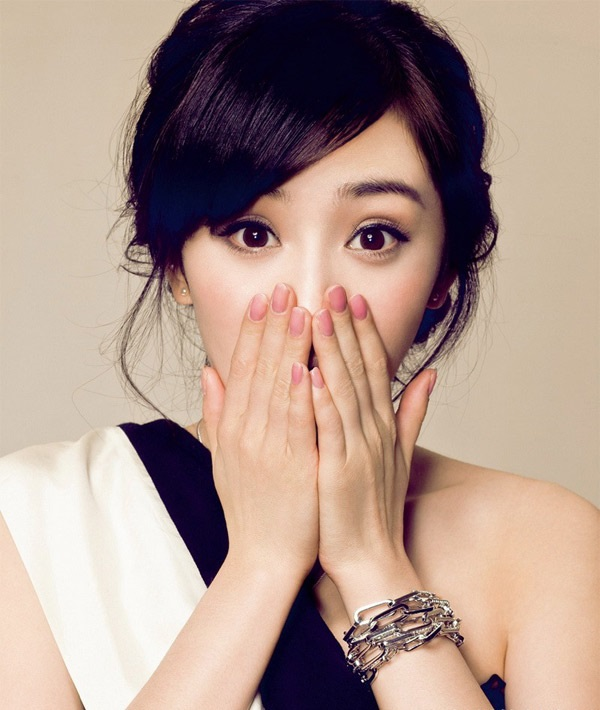face: (189, 99, 434, 459)
